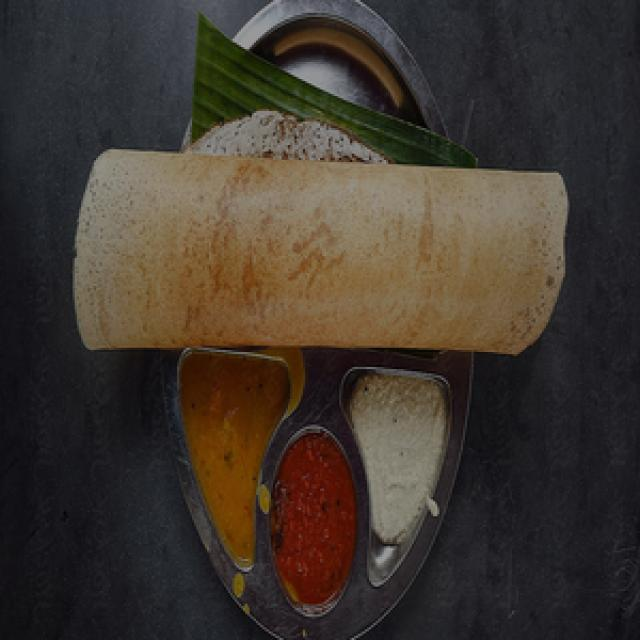dosa: (37, 128, 587, 375)
